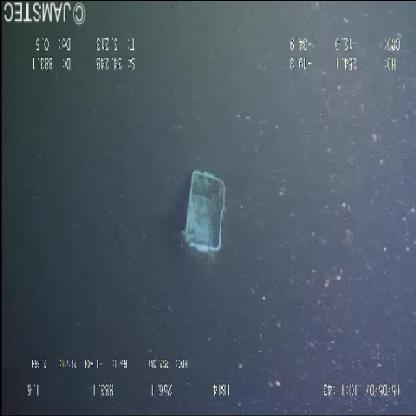Rác: (179, 163, 229, 265)
